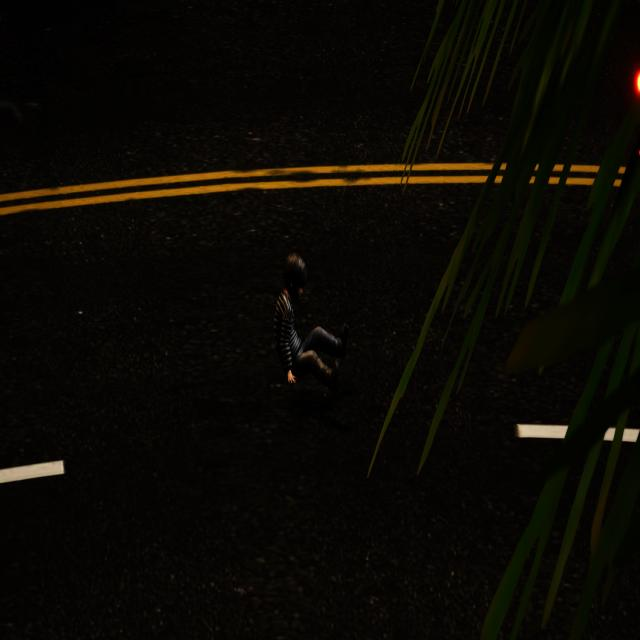Human: (273, 252, 351, 396)
